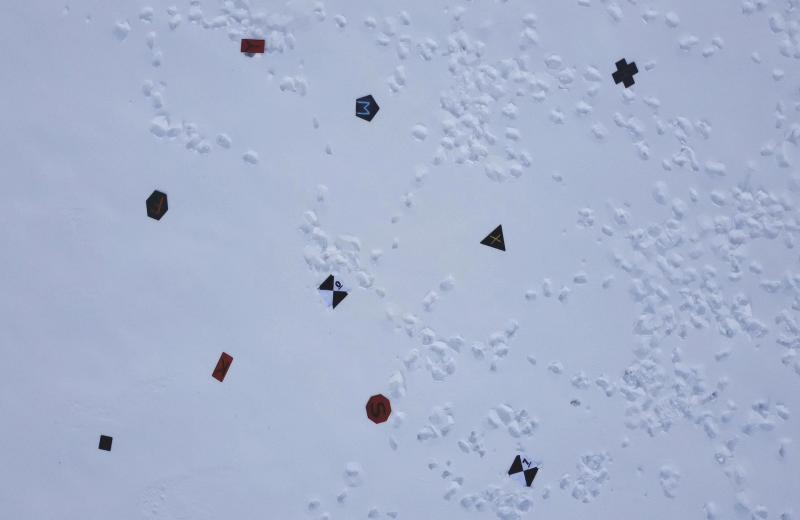Cross: (610, 54, 641, 92)
Hexagon: (142, 185, 172, 224)
Octagon: (362, 392, 394, 428)
Pentagon: (352, 91, 382, 124)
Rectangle: (208, 349, 236, 385), (237, 36, 270, 58)
Square: (94, 431, 115, 454)
Triangle: (476, 218, 510, 256)
